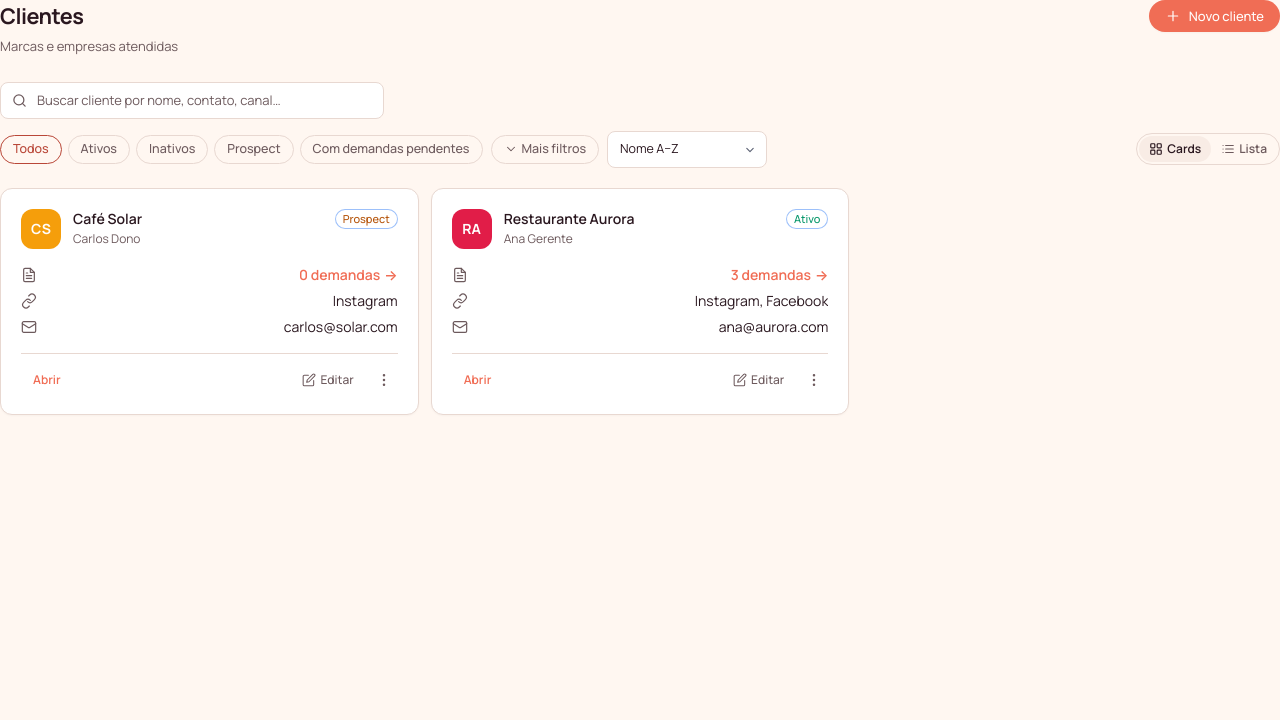
Test: Clients Feature — B3 Functional Wiring › surfaces 409 conflict error when trying to delete client with linked jobs
Click the button named "Mais ações para Restaurante Aurora": (814, 380) [800,366,828,394]
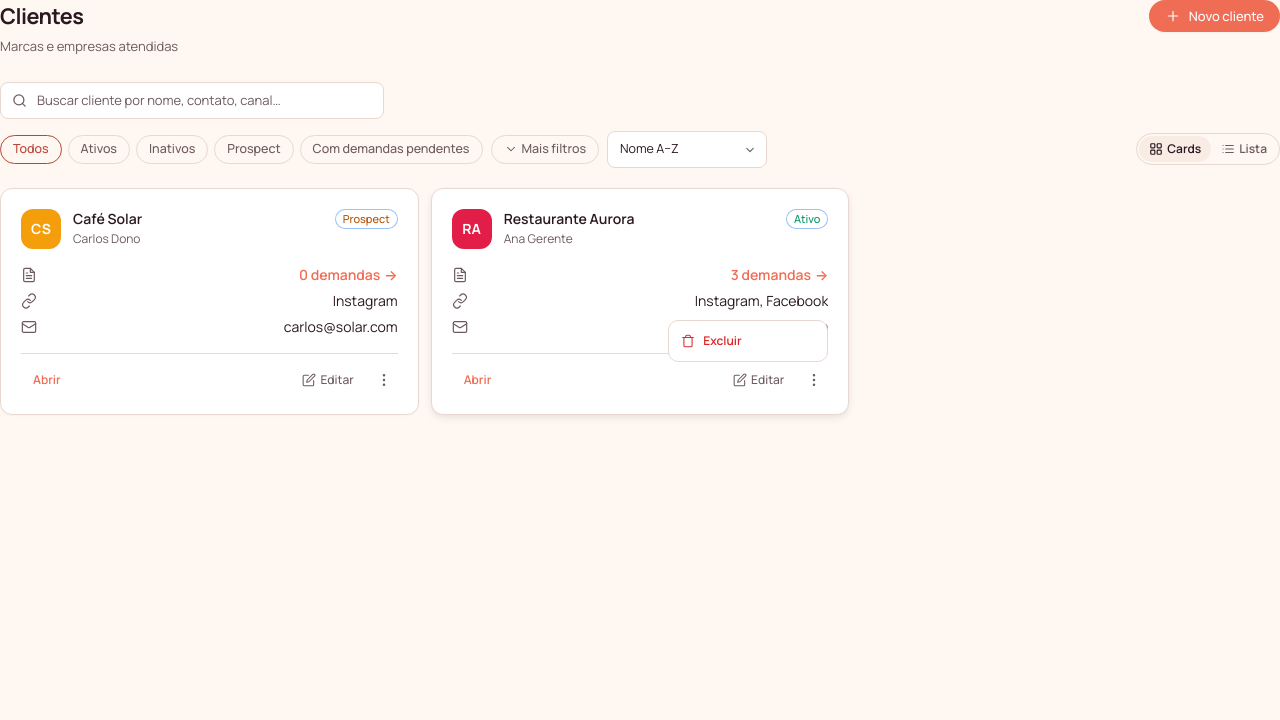
Click the menu item "Excluir": (748, 341) [669,325,827,357]
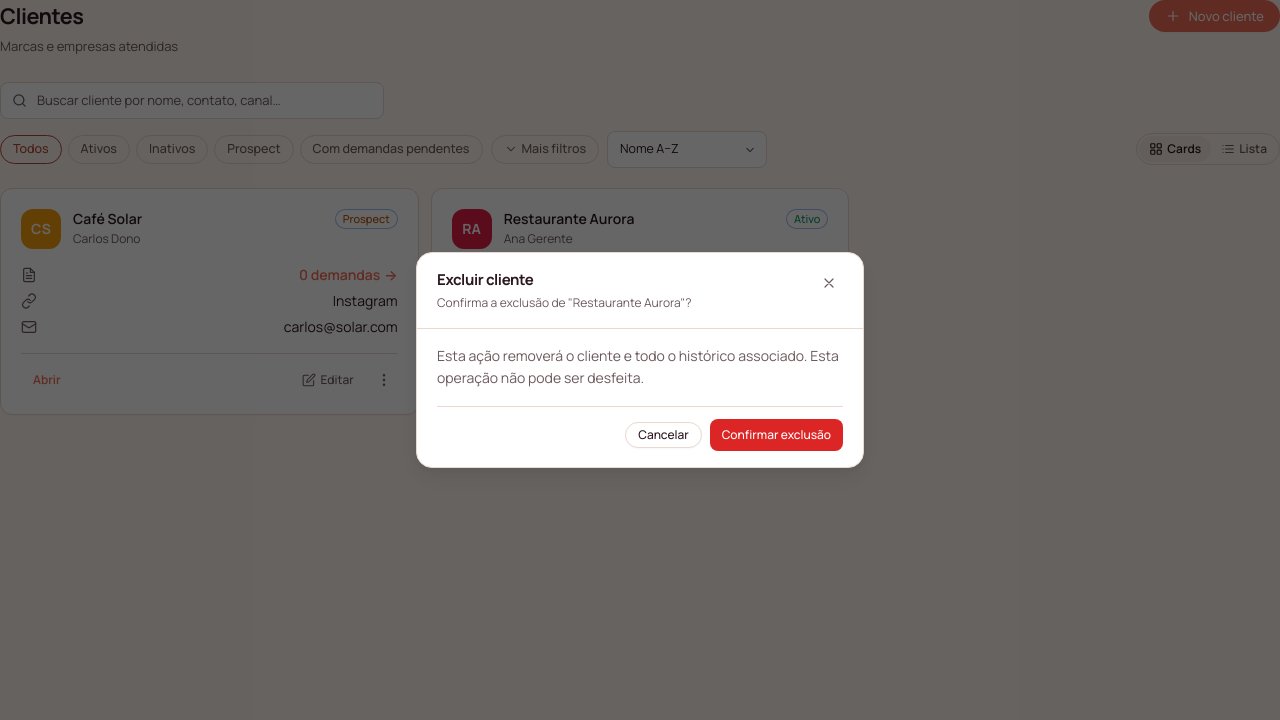
Click the button "Confirmar exclusão": (776, 435) [710,419,843,451]
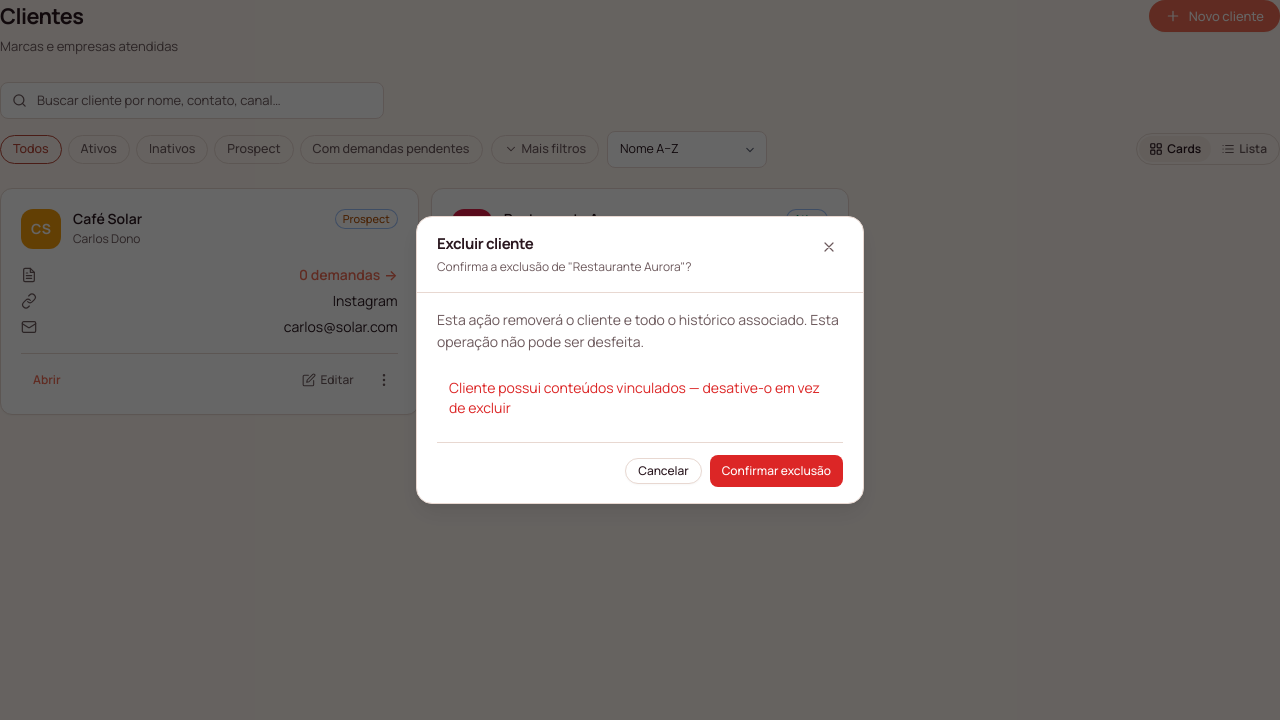
Now the text "Cliente possui conteúdos vinculados — desative-o em vez de excluir" is shown, box [437,370,843,426]
